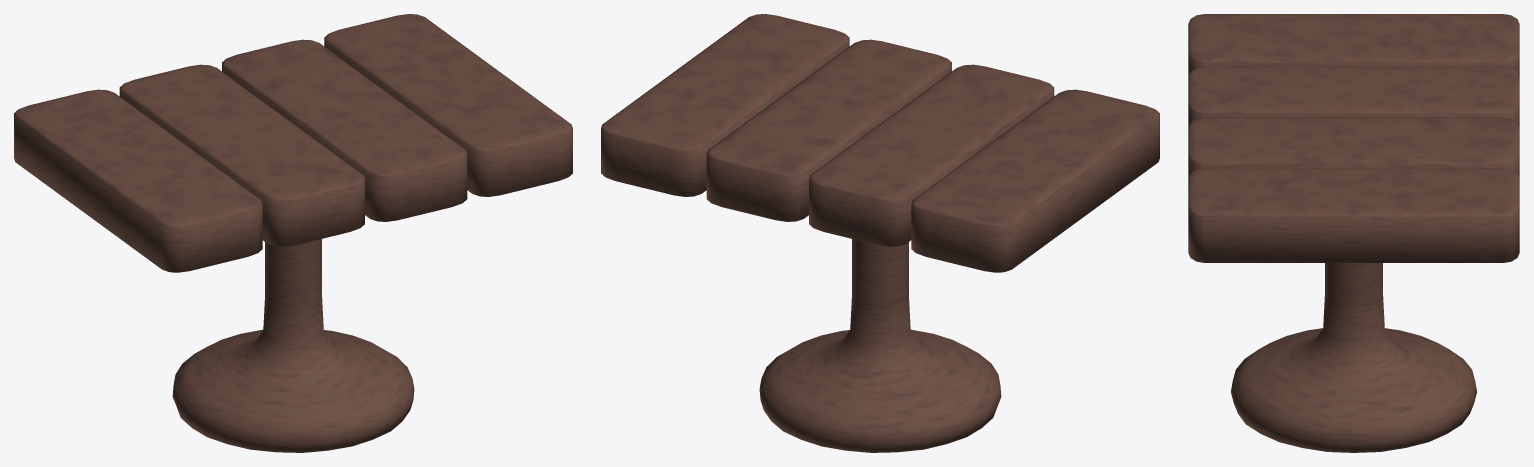
The model's file is table_baking.fbx.
3 views of the same model, side by side, from view 1: azimuth 30°, elevation 25°; view 2: azimuth 150°, elevation 25°; view 3: azimuth 270°, elevation 25° (orthographic).
Parts seen in each view (by area): view 1: table_bake; view 2: table_bake; view 3: table_bake.
Part boxes in pixels (x1,y1,x2,y2): table_bake: (14, 14, 572, 452); table_bake: (601, 14, 1159, 452); table_bake: (1188, 14, 1519, 452).
Bounding box in the file's own units: 304 × 210 × 210.
